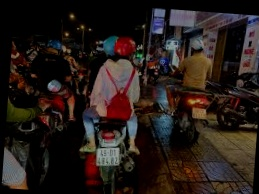Bien-so: (96, 147, 121, 168), (192, 106, 208, 120)
